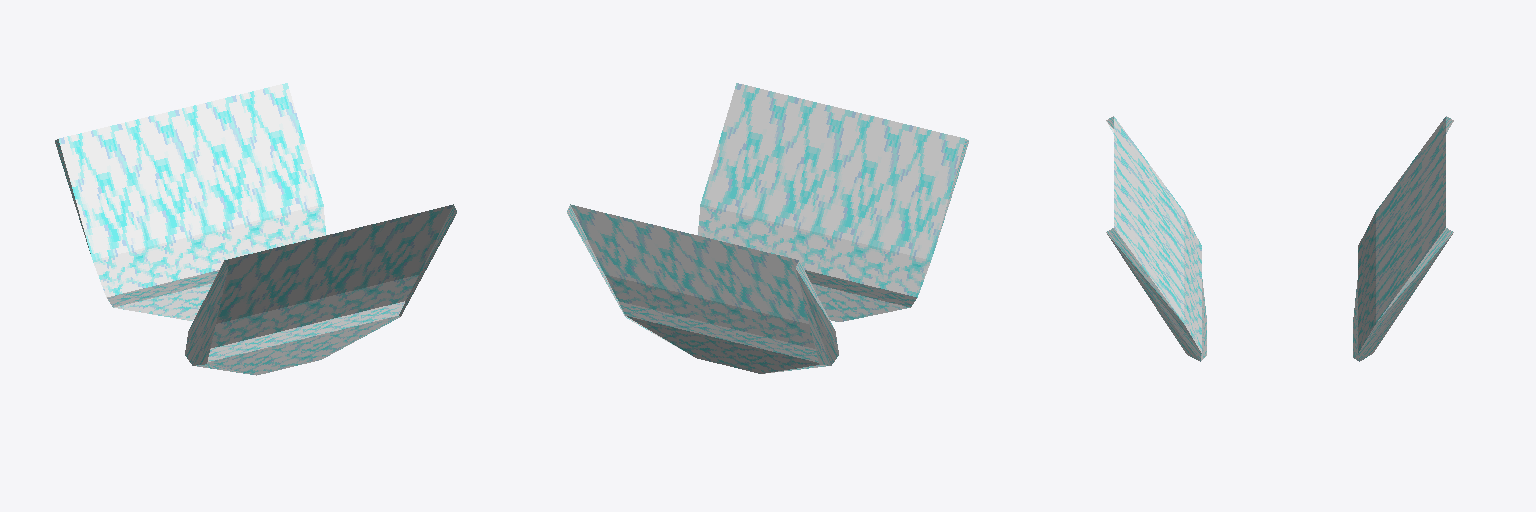
The picture shows the model from 3 angles: view 1: azimuth 30°, elevation 25°; view 2: azimuth 150°, elevation 25°; view 3: azimuth 270°, elevation 25°; orthographic projection.
Parts seen in each view (by area): view 1: Nemu_1D25E4EE_0_56, Nemu_1D25E4EE_0_55; view 2: Nemu_1D25E4EE_0_55, Nemu_1D25E4EE_0_56; view 3: Nemu_1D25E4EE_0_55, Nemu_1D25E4EE_0_56.
Part boxes in pixels (bbox=[...]): Nemu_1D25E4EE_0_56: bbox=[55, 83, 325, 320]; Nemu_1D25E4EE_0_55: bbox=[185, 204, 456, 375]; Nemu_1D25E4EE_0_55: bbox=[698, 83, 968, 321]; Nemu_1D25E4EE_0_56: bbox=[567, 204, 838, 373]; Nemu_1D25E4EE_0_55: bbox=[1106, 116, 1206, 361]; Nemu_1D25E4EE_0_56: bbox=[1353, 116, 1453, 361].
Bounding box in the file's own units: 3024 × 2113 × 3948.
Materials: 1 (1 with a texture image).